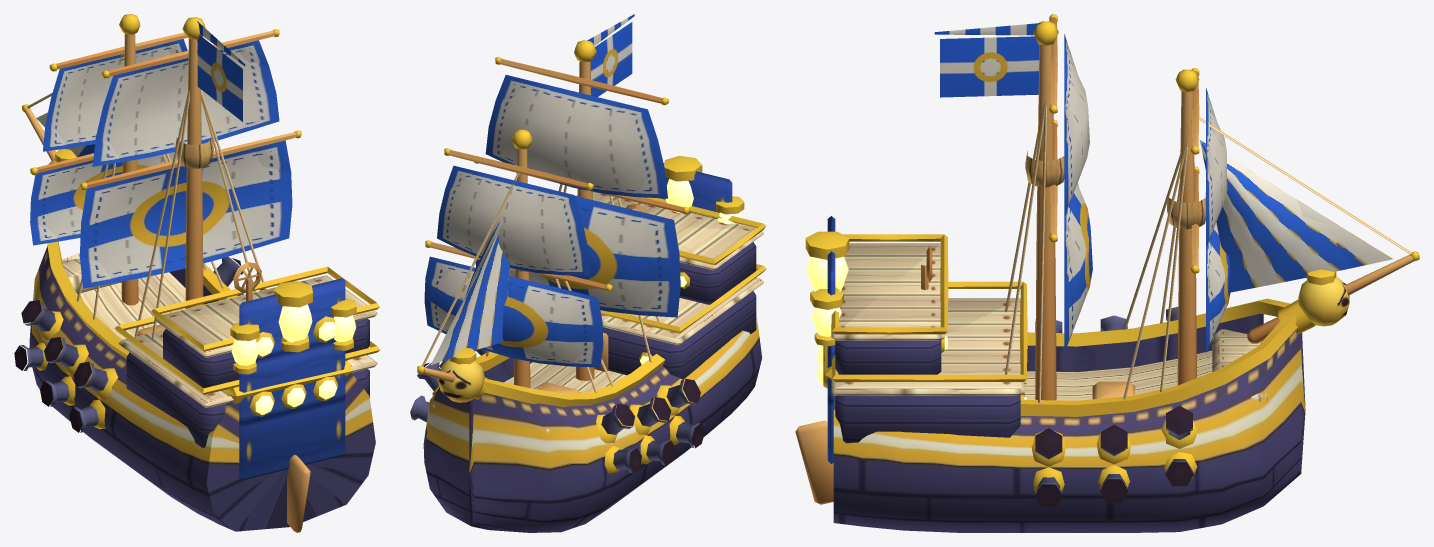
Rendered from enemy_galleon.glb.
3 views of the same model, side by side, from view 1: azimuth 30°, elevation 25°; view 2: azimuth 150°, elevation 25°; view 3: azimuth 270°, elevation 25° (orthographic). The views are drawn at different scales.
Visible parts, largest first — view 1: Hull, Sail1_0, Rigging, Sail1_1, Sail0_1, Sail0_0, Guns0, Flag; view 2: Hull, Sail1_1, Sail0_1, Sail0_0, Sail1_0, Rigging, Jib, Guns0, Flag; view 3: Hull, Rigging, Jib, Flag, Guns0, Sail1_0, Sail1_1, Sail0_1, Sail0_0.
Part boxes in pixels (x1,y1,x2,y2): Hull: [29, 149, 380, 532]; Sail1_0: [79, 140, 292, 288]; Rigging: [22, 14, 301, 339]; Sail1_1: [92, 40, 279, 166]; Sail0_1: [43, 39, 187, 151]; Sail0_0: [30, 152, 177, 245]; Guns0: [14, 256, 264, 432]; Flag: [197, 21, 245, 121]; Hull: [423, 156, 766, 532]; Sail1_1: [485, 75, 667, 198]; Sail0_1: [437, 165, 590, 275]; Sail0_0: [424, 256, 603, 367]; Sail1_0: [475, 196, 680, 317]; Rigging: [417, 40, 689, 393]; Jib: [431, 220, 509, 364]; Guns0: [410, 349, 704, 472]; Flag: [587, 14, 634, 96]; Hull: [795, 216, 1349, 532]; Rigging: [1005, 14, 1419, 402]; Jib: [1199, 139, 1392, 292]; Flag: [934, 23, 1040, 97]; Guns0: [1034, 307, 1193, 507]; Sail1_0: [1064, 183, 1092, 352]; Sail1_1: [1064, 34, 1089, 216]; Sail0_1: [1206, 88, 1227, 247]; Sail0_0: [1206, 223, 1231, 352].
Size of the model in its own units: 1.94 by 3.51 by 4.06.
Materials: 8 (8 with a texture image).
